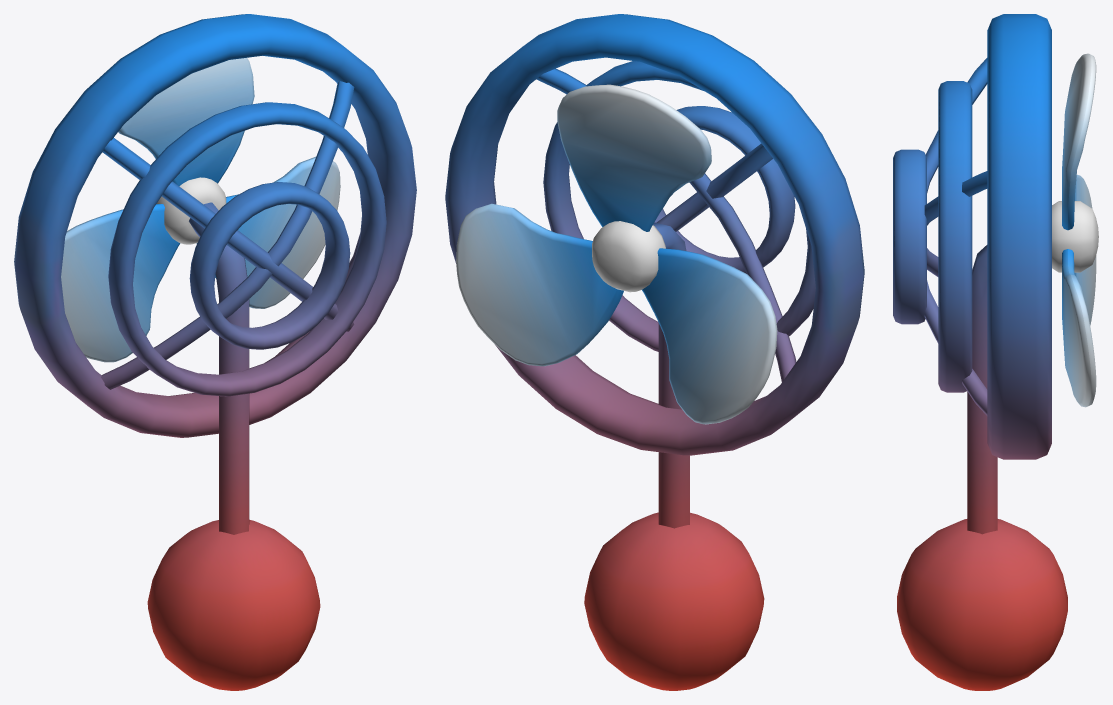
File: MDL_Fan.fbx
The picture shows the model from 3 angles, left to right: view 1: azimuth 30°, elevation 25°; view 2: azimuth 150°, elevation 25°; view 3: azimuth 270°, elevation 25°; orthographic projection. The views are drawn at different scales.
Visible parts, largest first — view 1: Fan, Fan_Wing; view 2: Fan, Fan_Wing; view 3: Fan, Fan_Wing.
Part boxes in pixels (bbox=[...]): Fan: bbox=[14, 14, 416, 690]; Fan_Wing: bbox=[61, 58, 340, 362]; Fan: bbox=[445, 14, 864, 690]; Fan_Wing: bbox=[456, 84, 777, 424]; Fan: bbox=[893, 14, 1067, 690]; Fan_Wing: bbox=[1052, 53, 1098, 407].
Bounding box in the file's own units: 0.9937 × 1.59 × 0.4589.
